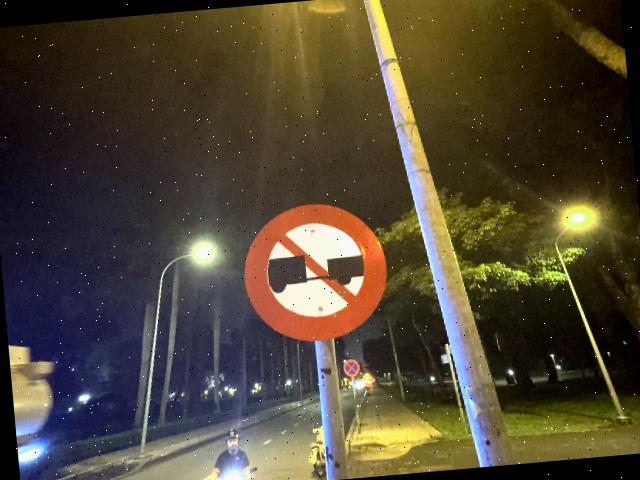cam-xe-somi-romooc: (237, 198, 392, 346)
